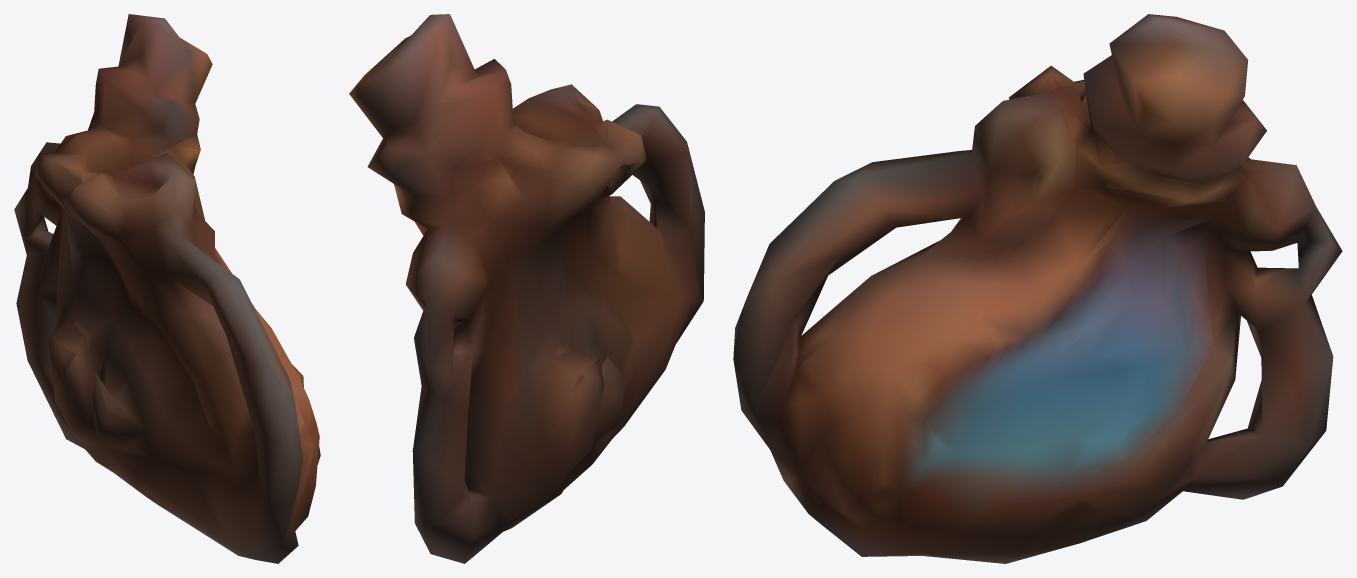
File: waterskin_clean.glb
3 views of the same model, side by side, from view 1: azimuth 30°, elevation 25°; view 2: azimuth 150°, elevation 25°; view 3: azimuth 270°, elevation 25° (orthographic). The views are drawn at different scales.
Visible parts, largest first — view 1: model; view 2: model; view 3: model.
Part boxes in pixels (<box>): model: <box>14,14,320,563</box>; model: <box>349,14,704,563</box>; model: <box>733,14,1342,563</box>.
Bounding box in the file's own units: 0.1742 × 0.4002 × 0.3985.
Materials: 1 (1 with a texture image).
